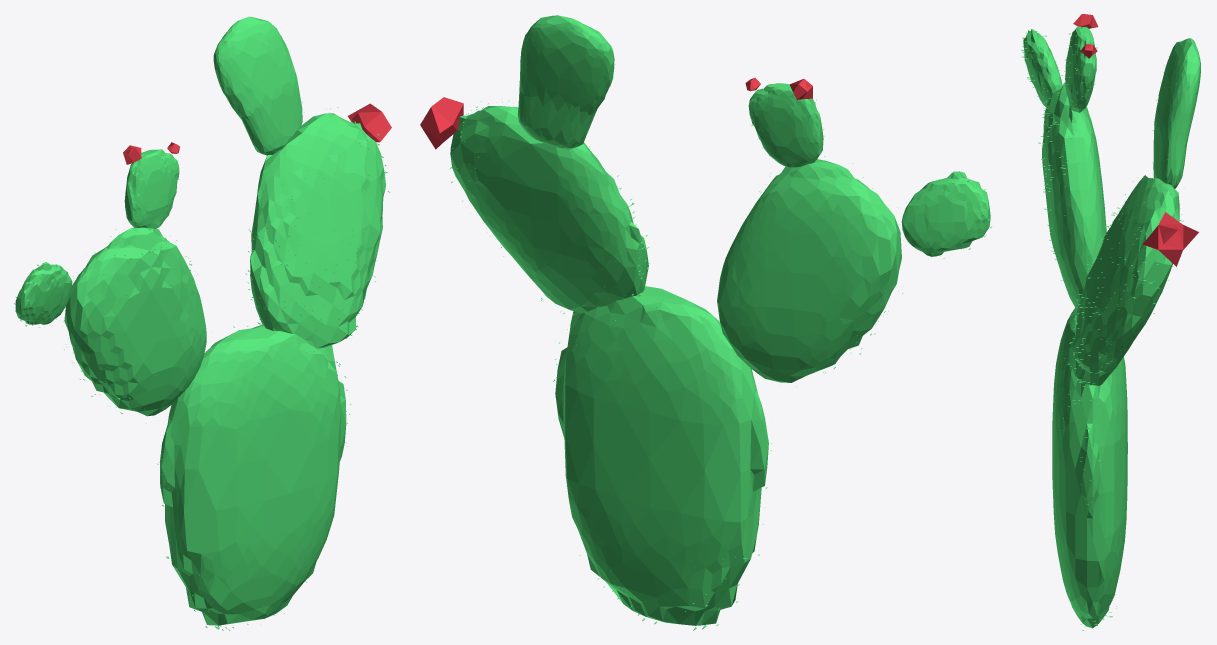
Rendered from nopal cactus.fbx.
The picture shows the model from 3 angles, left to right: view 1: azimuth 30°, elevation 25°; view 2: azimuth 150°, elevation 25°; view 3: azimuth 270°, elevation 25°; orthographic projection. The views are drawn at different scales.
Visible parts, largest first — view 1: nopal; view 2: nopal; view 3: nopal.
Part boxes in pixels (left/top/right/bottom): nopal: left=14, top=16, right=391, bottom=630; nopal: left=420, top=15, right=992, bottom=630; nopal: left=1021, top=14, right=1200, bottom=630.
Bounding box in the file's own units: 230 × 282 × 77.62.
